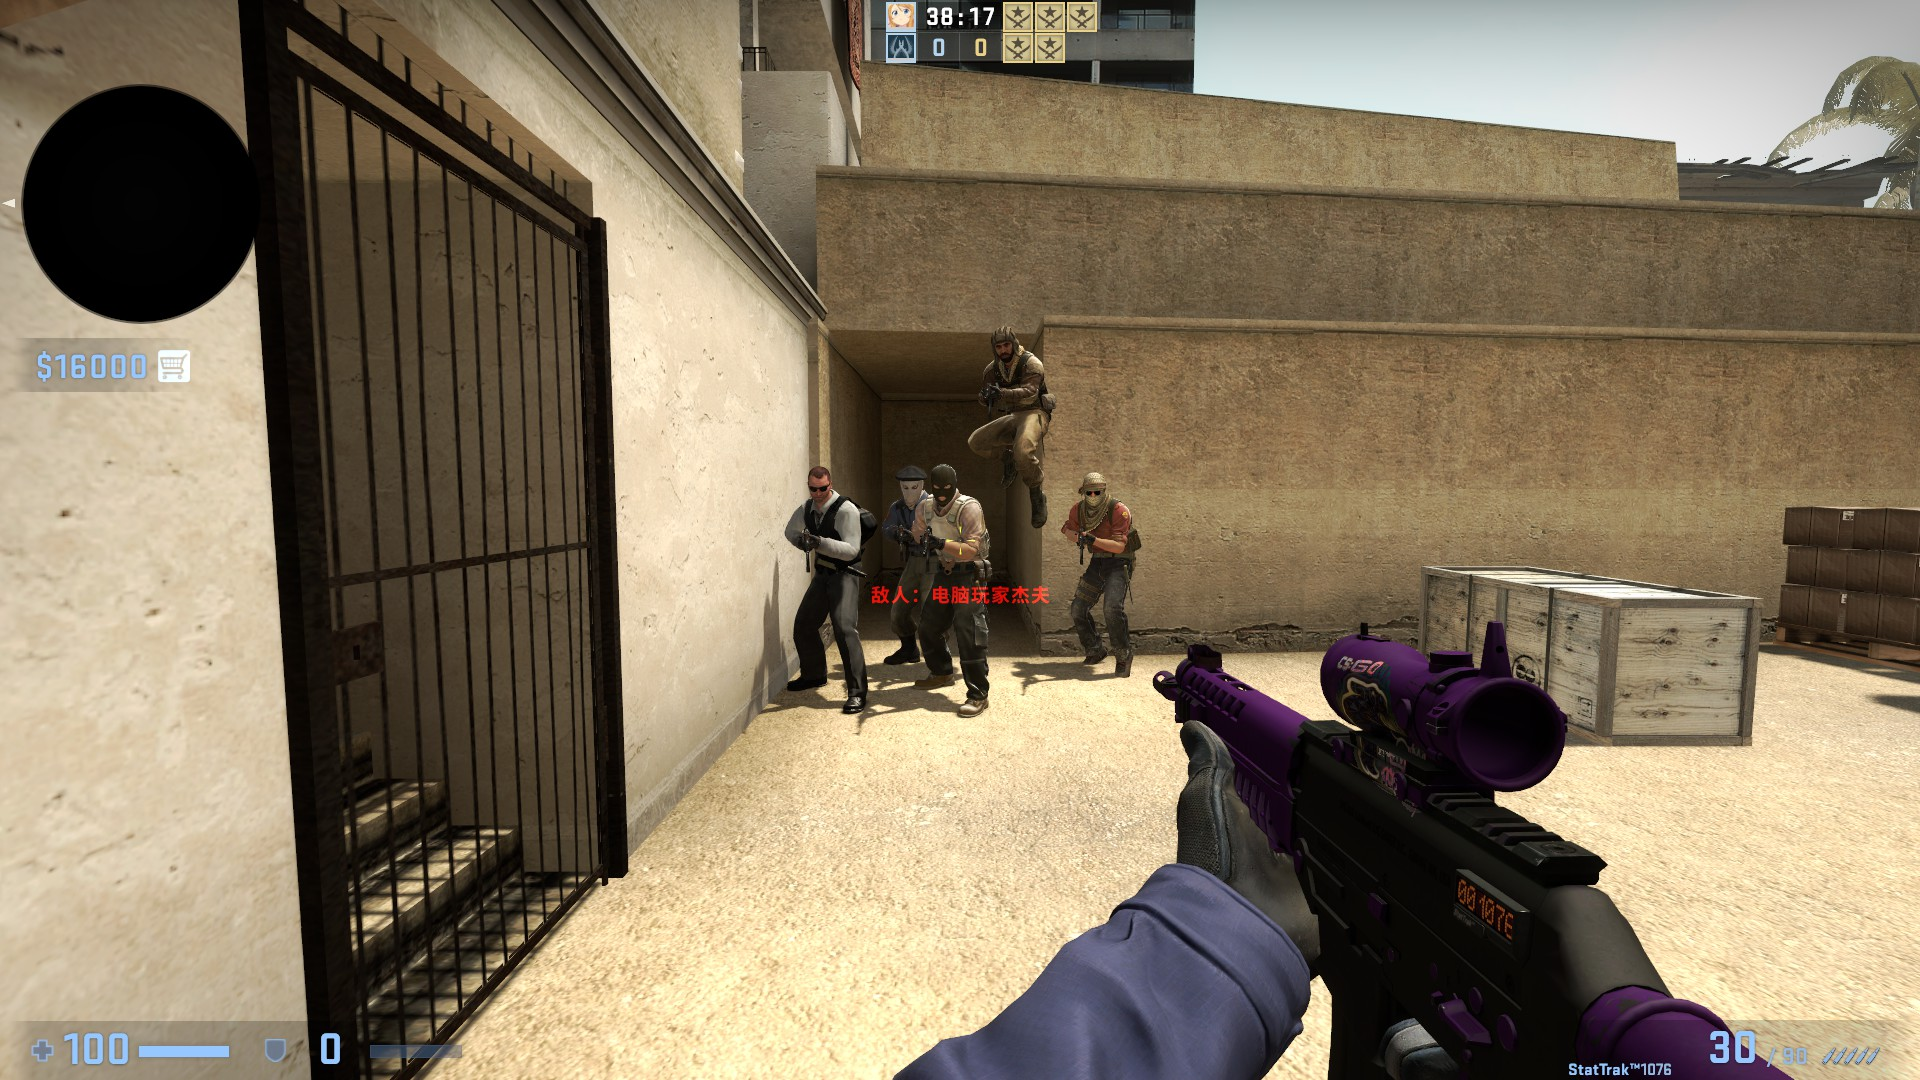head: (929, 462, 958, 506), (1077, 470, 1107, 507), (894, 465, 923, 503), (989, 327, 1018, 362), (804, 466, 831, 500)
